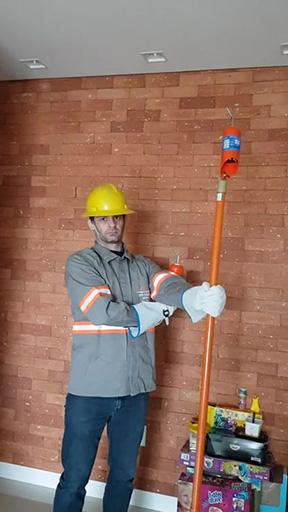Detector_Tensao_Contato: (218, 105, 244, 183)
Vara_Manobra: (189, 180, 228, 512)
